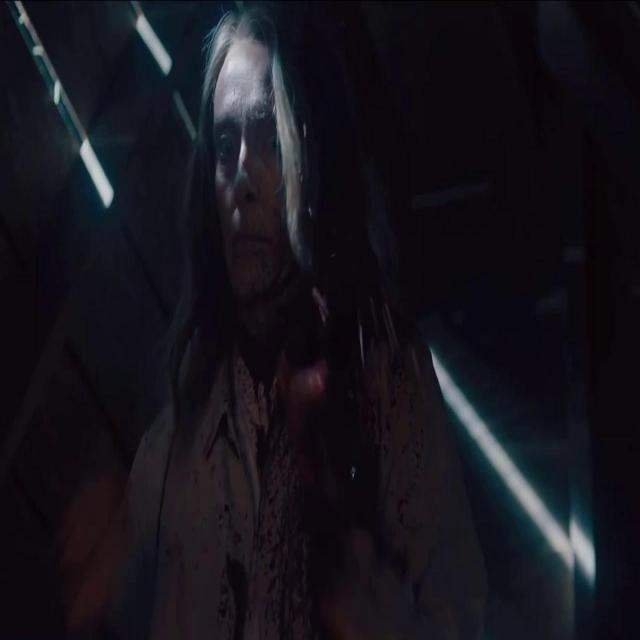flood: (171, 272, 429, 640)
